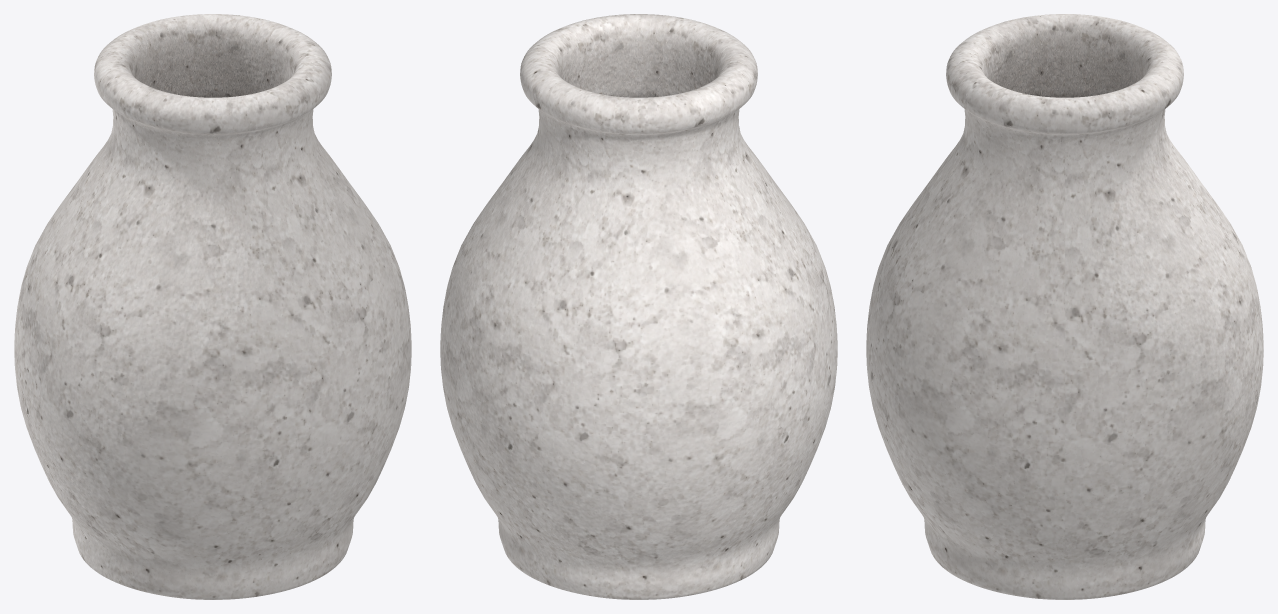
The model's file is vase-small-white.glb.
3 views of the same model, side by side, from view 1: azimuth 30°, elevation 25°; view 2: azimuth 150°, elevation 25°; view 3: azimuth 270°, elevation 25° (orthographic).
Visible parts, largest first — view 1: vase-small-white; view 2: vase-small-white; view 3: vase-small-white.
Boxes of the visible parts, x1,y1,x2,y2 form: vase-small-white: [14, 14, 411, 599]; vase-small-white: [440, 14, 837, 599]; vase-small-white: [866, 14, 1263, 599].
Size of what is drawn, in the model's own units: 0.0167 by 0.0226 by 0.0167.
1 material, 1 textured.
